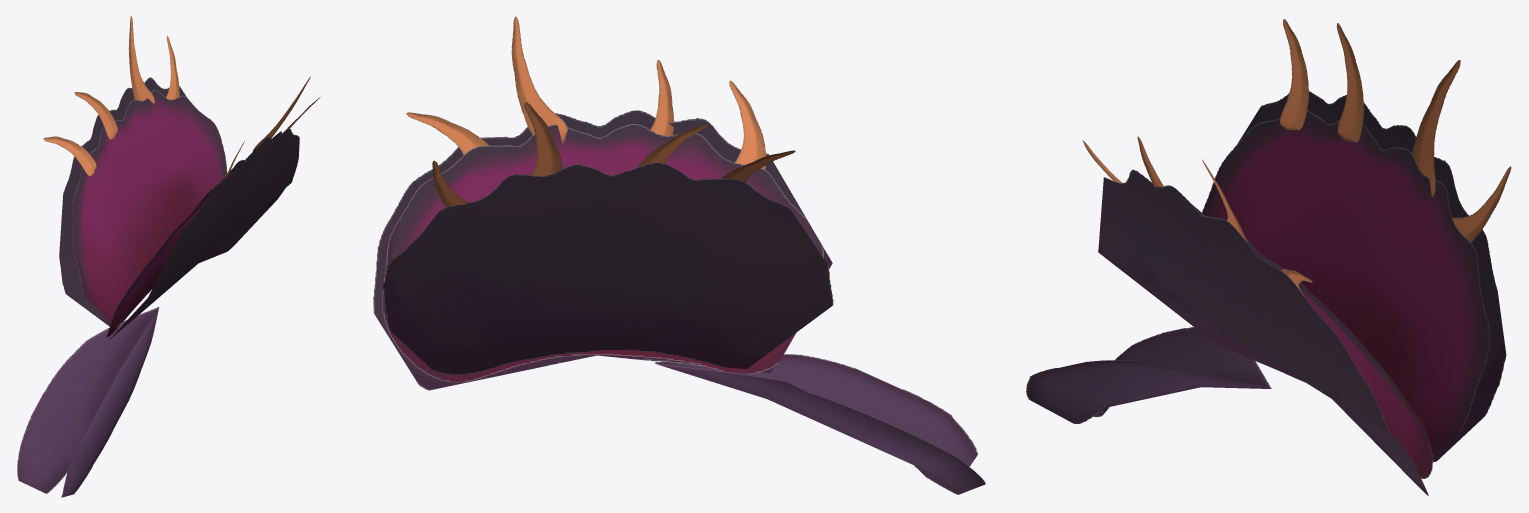
File: PROP_flyTrap_01_block.fbx
The picture shows the model from 3 angles, left to right: view 1: azimuth 30°, elevation 25°; view 2: azimuth 150°, elevation 25°; view 3: azimuth 270°, elevation 25°; orthographic projection. The views are drawn at different scales.
Parts seen in each view (by area): view 1: PROP_flyTrap_01_block; view 2: PROP_flyTrap_01_block; view 3: PROP_flyTrap_01_block.
Boxes of the visible parts, x1,y1,x2,y2 form: PROP_flyTrap_01_block: (17, 16, 320, 497); PROP_flyTrap_01_block: (373, 16, 985, 494); PROP_flyTrap_01_block: (1026, 19, 1511, 495).
Bounding box in the file's own units: 73.64 × 63.33 × 54.67.
Materials: 1 (1 with a texture image).
